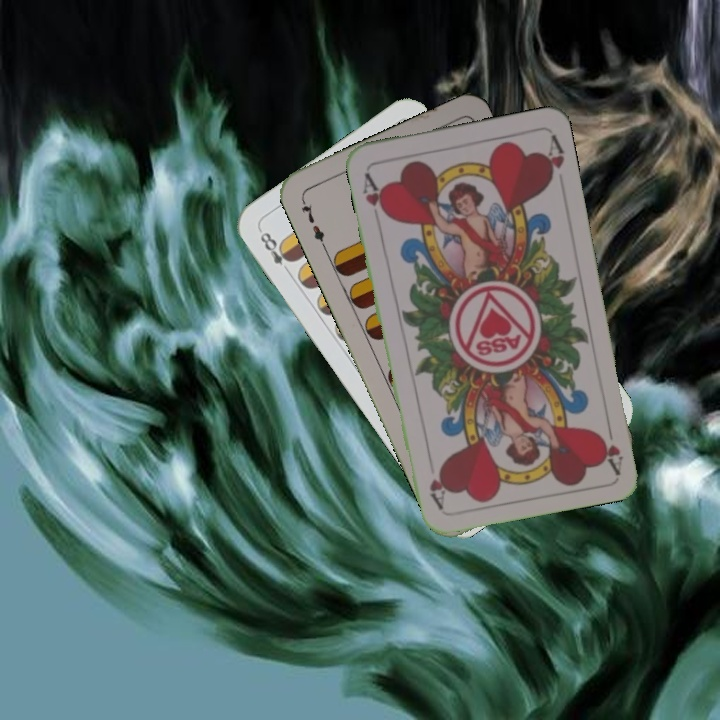E7: (297, 195, 329, 250)
E8: (255, 226, 297, 278)
HA: (594, 416, 626, 475), (358, 168, 390, 220)
